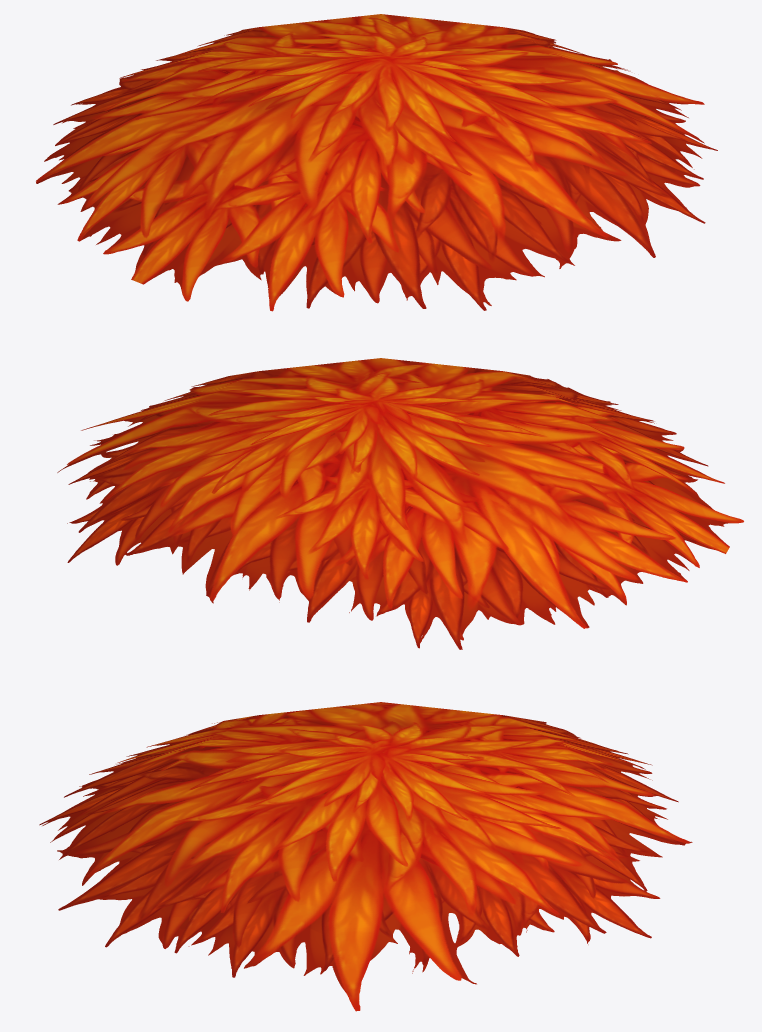
File: SM_Plane_Leaf.fbx
3 views of the same model, one above another, from view 1: azimuth 30°, elevation 25°; view 2: azimuth 150°, elevation 25°; view 3: azimuth 270°, elevation 25° (orthographic).
Visible parts, largest first — view 1: SM_Plane_Leaf; view 2: SM_Plane_Leaf; view 3: SM_Plane_Leaf.
Boxes of the visible parts, box(x1,y1,x2,y2) form: SM_Plane_Leaf: box(36, 14, 717, 311); SM_Plane_Leaf: box(57, 358, 743, 649); SM_Plane_Leaf: box(39, 702, 692, 1011).
Size of the model in its own units: 1750 by 297 by 1732.
